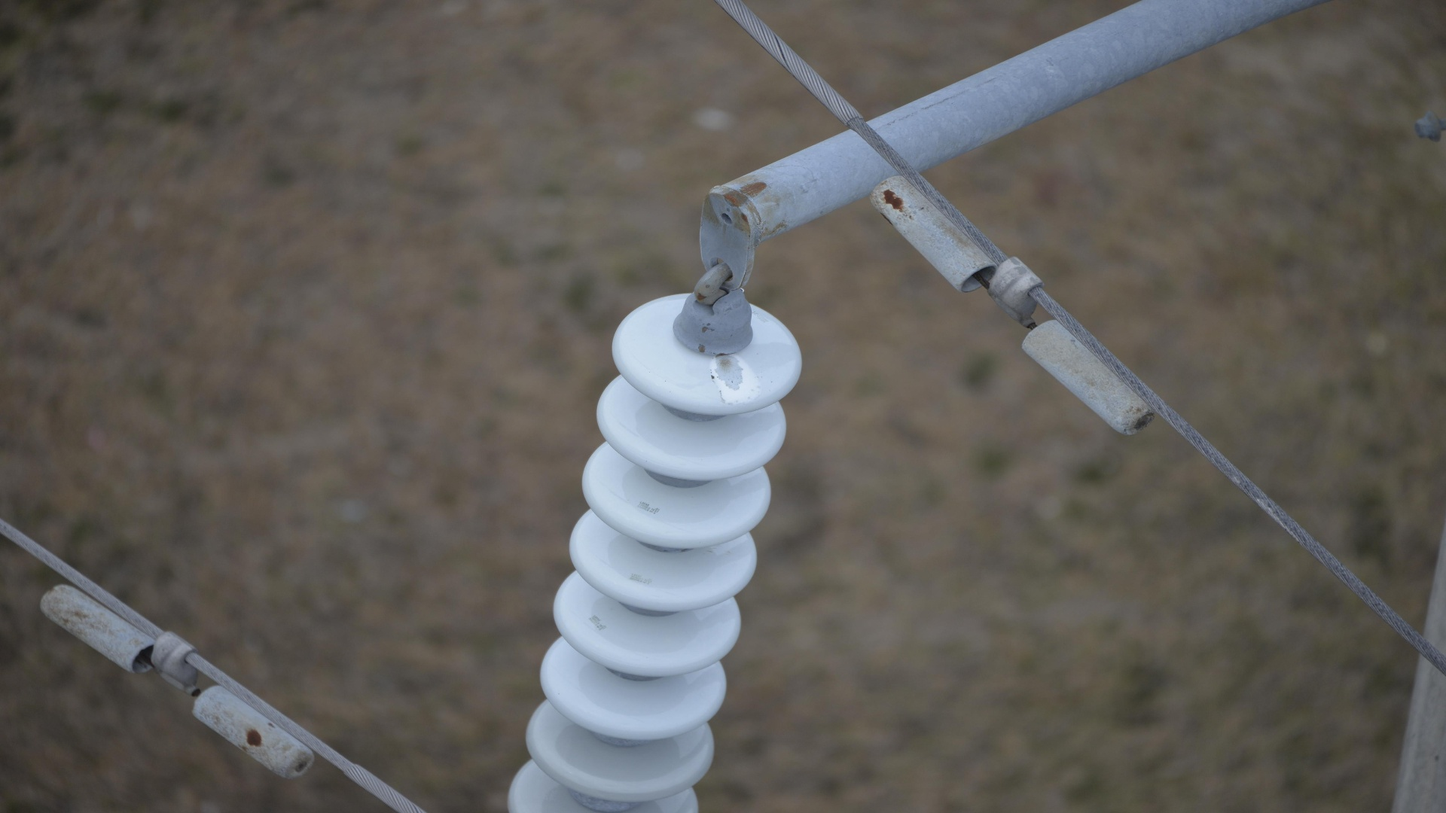damper: (863, 169, 1167, 442), (33, 575, 318, 784)
